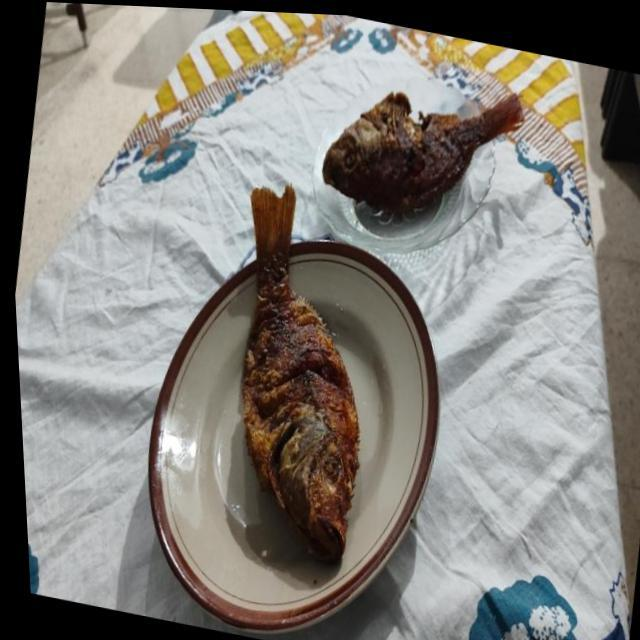ikan_mujair: (242, 186, 359, 561), (322, 92, 524, 215)
